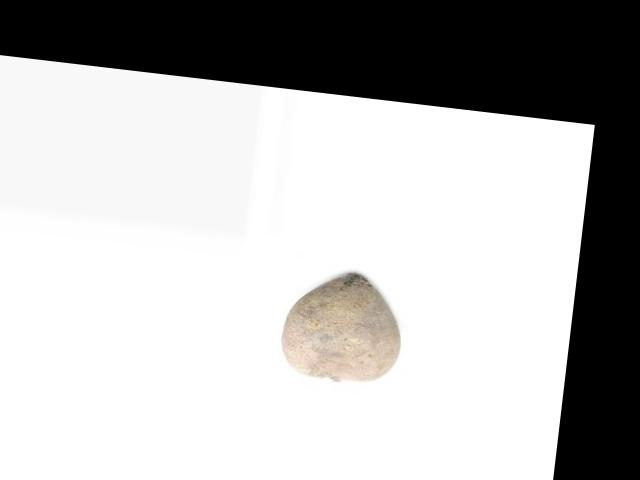beet: (277, 265, 408, 387)
